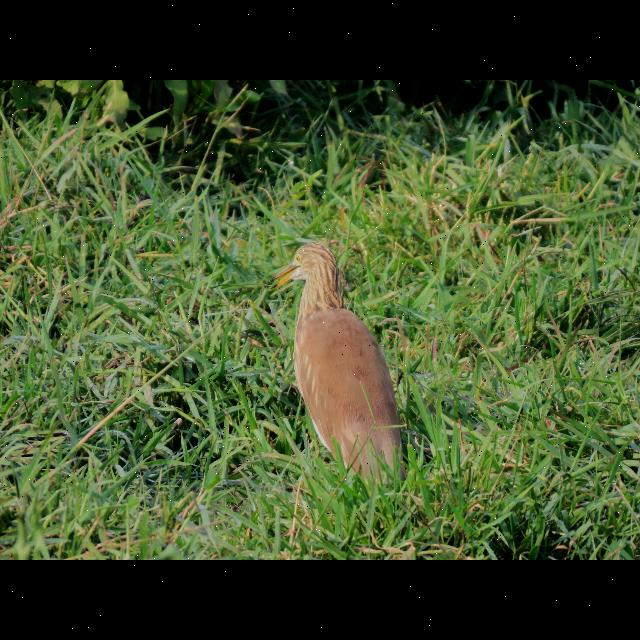heron: (259, 237, 405, 477)
